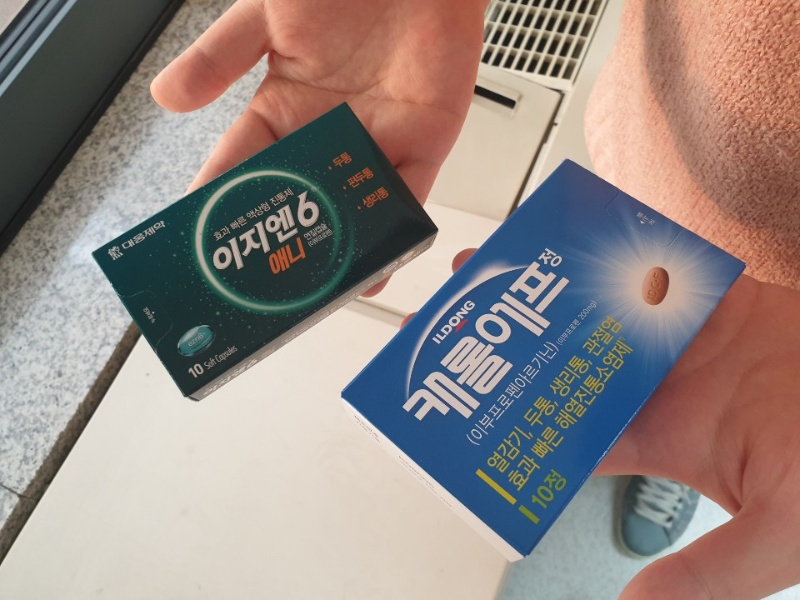carolF: (342, 160, 748, 557)
ezn: (91, 102, 437, 399)
